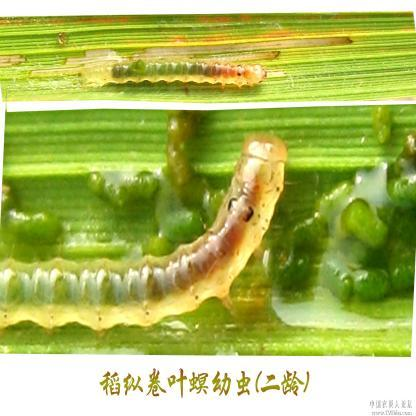leaf-folder: (0, 132, 295, 329), (48, 42, 274, 96)
